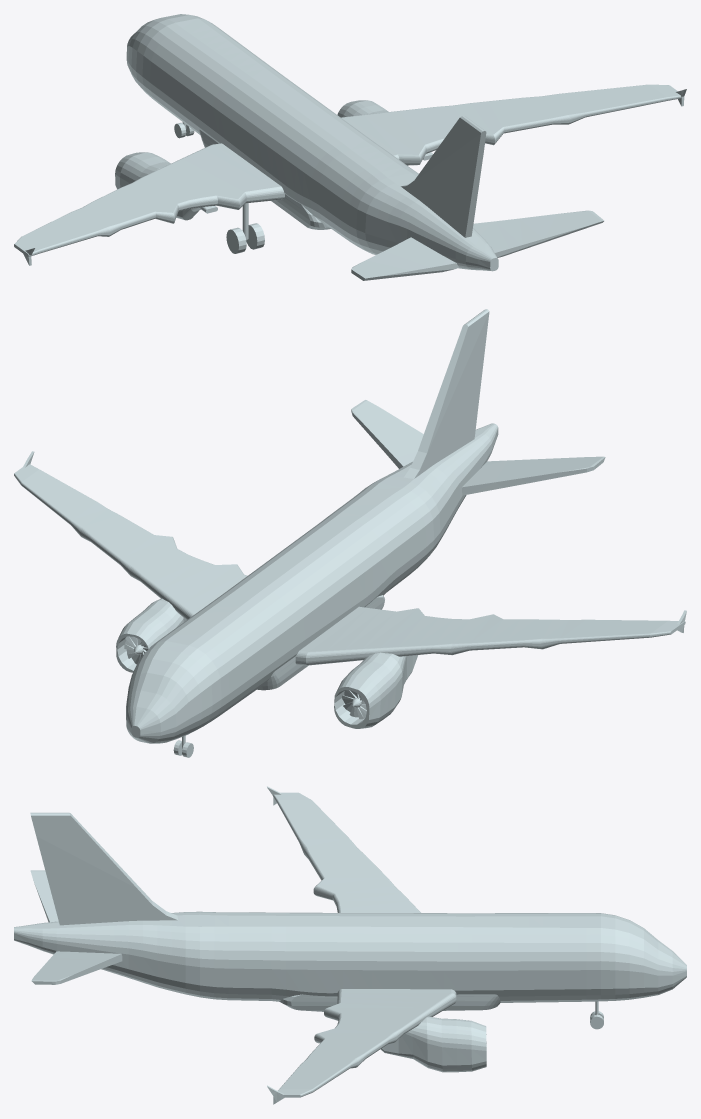
3 renders of one model, top to bottom at view 1: azimuth 30°, elevation 25°; view 2: azimuth 150°, elevation 25°; view 3: azimuth 270°, elevation 25°, orthographic. The views are drawn at different scales.
Parts seen in each view (by area): view 1: Aircraft visual hull, Landing gear; view 2: Aircraft visual hull; view 3: Aircraft visual hull.
Boxes of the visible parts, box(x1,y1,x2,y2) form: Aircraft visual hull: box(14, 14, 686, 280); Landing gear: box(174, 122, 264, 253); Aircraft visual hull: box(14, 309, 686, 743); Aircraft visual hull: box(14, 786, 686, 1104).
Bounding box in the file's own units: 35.95 × 11.83 × 33.95.
